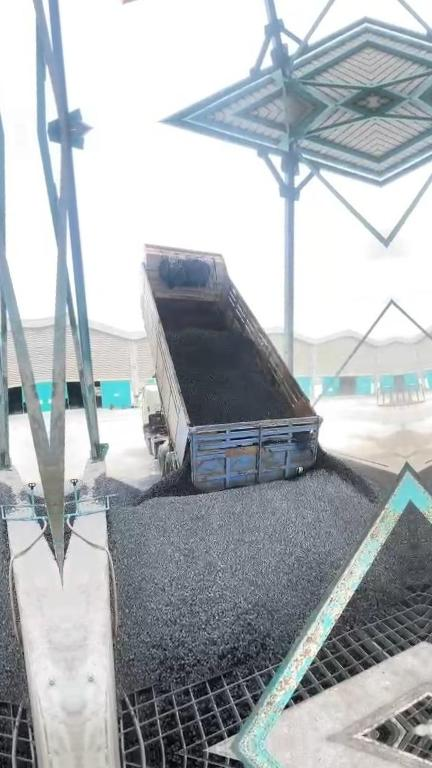gravel: (92, 451, 387, 690), (165, 323, 286, 424), (340, 504, 417, 625)
sand: (344, 429, 406, 471)
